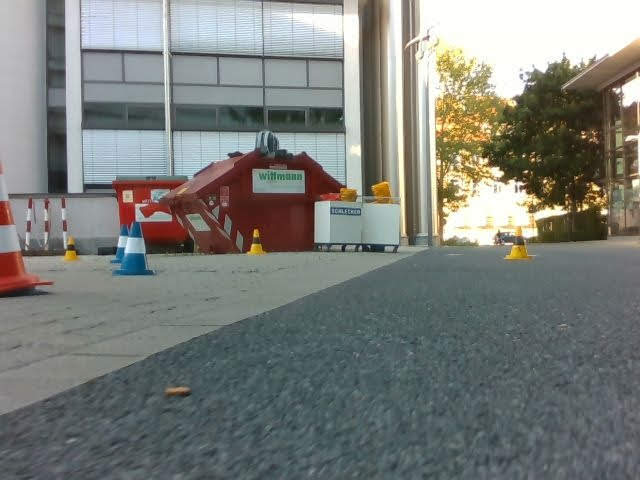cone-blue: (113, 222, 155, 275), (110, 223, 134, 264)
cone-orangebig: (1, 199, 54, 294)
cone-yellow: (504, 226, 532, 261), (246, 229, 266, 256), (62, 235, 80, 262)
